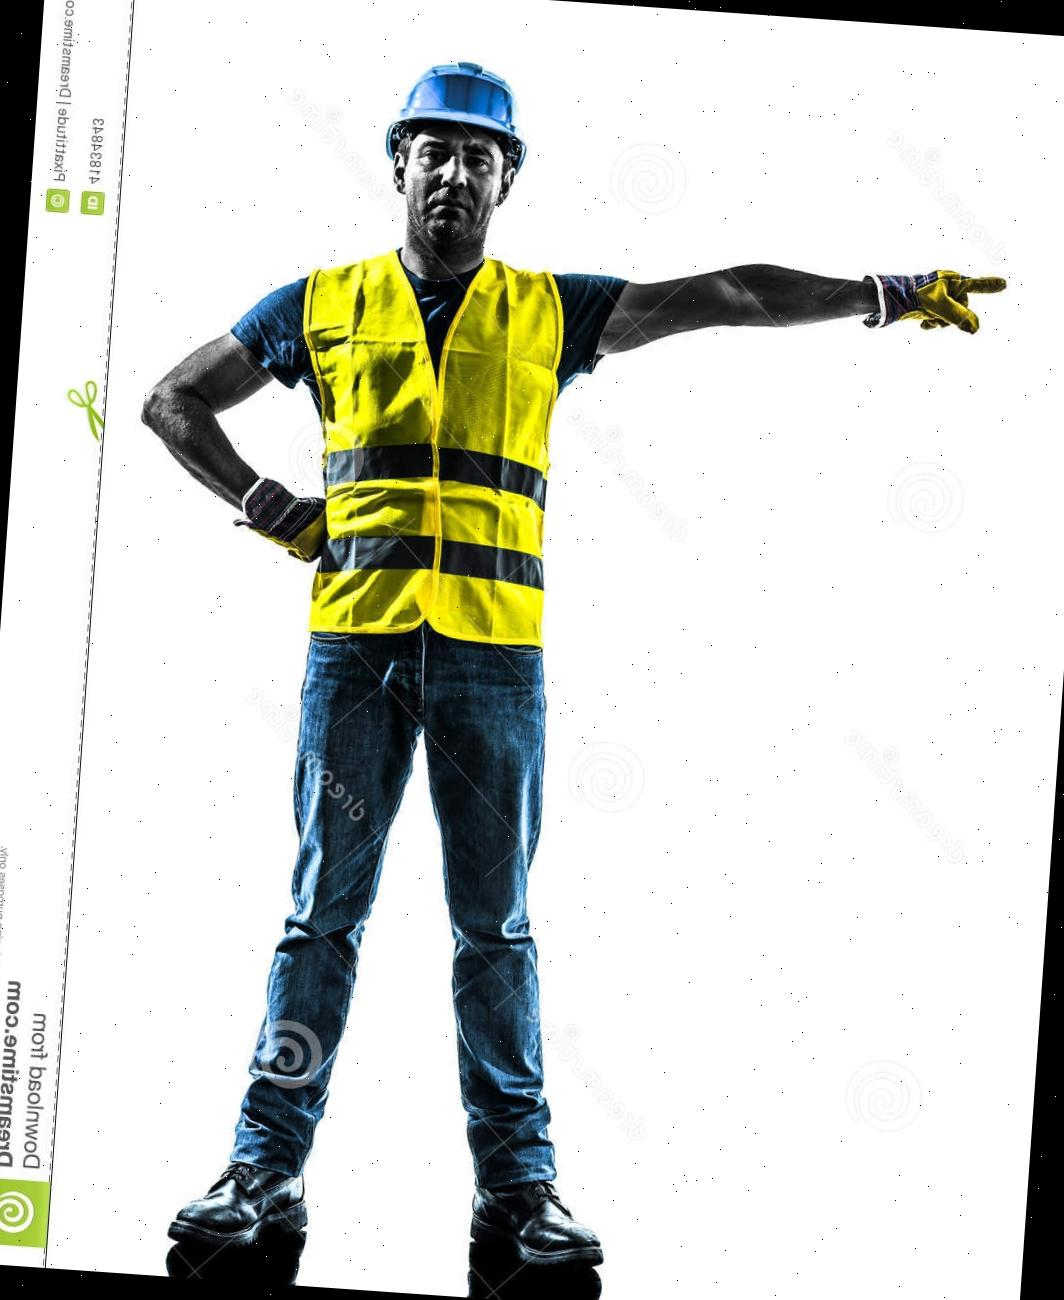helmet: (383, 55, 535, 179)
wear: (296, 260, 565, 652)
